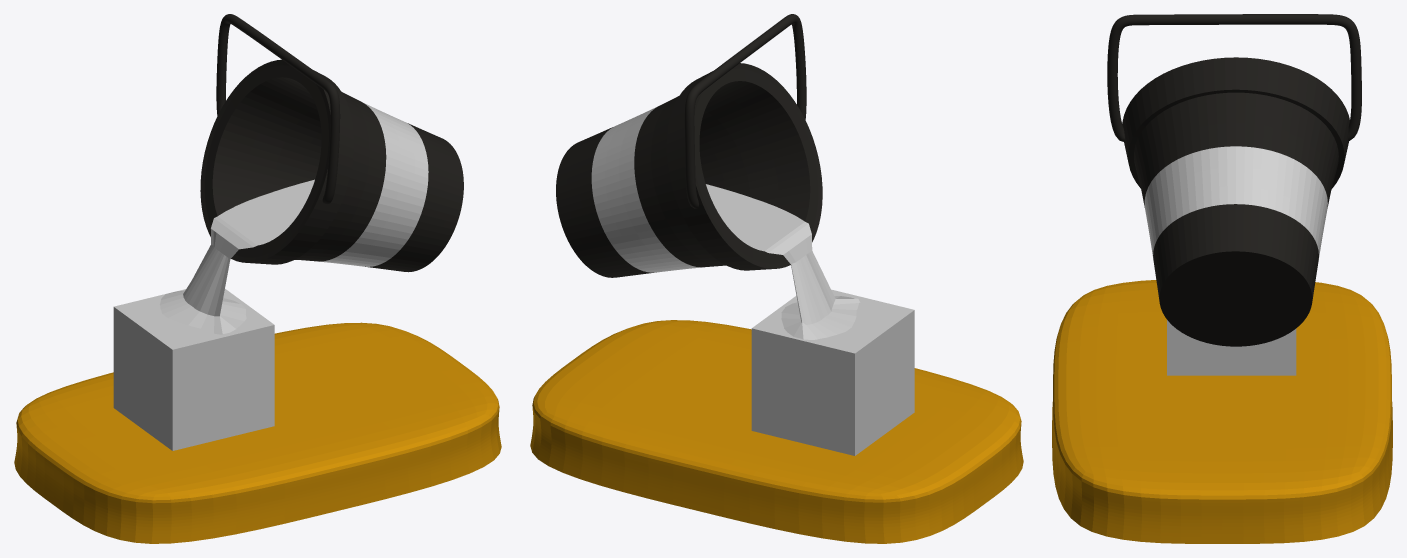
File: fill_white_btn.obj
The picture shows the model from 3 angles, left to right: view 1: azimuth 30°, elevation 25°; view 2: azimuth 150°, elevation 25°; view 3: azimuth 270°, elevation 25°; orthographic projection. The views are drawn at different scales.
Visible parts, largest first — view 1: Cube, Cylinder, Cube.001, Cylinder.001; view 2: Cube, Cylinder, Cube.001, Cylinder.001; view 3: Cube, Cylinder, Cube.001.
Boxes of the visible parts, x1,y1,x2,y2 form: Cube: [14, 322, 501, 543]; Cylinder: [200, 14, 463, 272]; Cube.001: [113, 289, 274, 450]; Cylinder.001: [160, 179, 314, 334]; Cube: [530, 320, 1023, 543]; Cylinder: [556, 14, 822, 277]; Cube.001: [751, 289, 914, 455]; Cylinder.001: [706, 184, 860, 339]; Cube: [1052, 280, 1392, 543]; Cylinder: [1107, 14, 1361, 346]; Cube.001: [1167, 320, 1296, 375].
Size of the model in its own units: 17.54 by 16.18 by 11.5.
